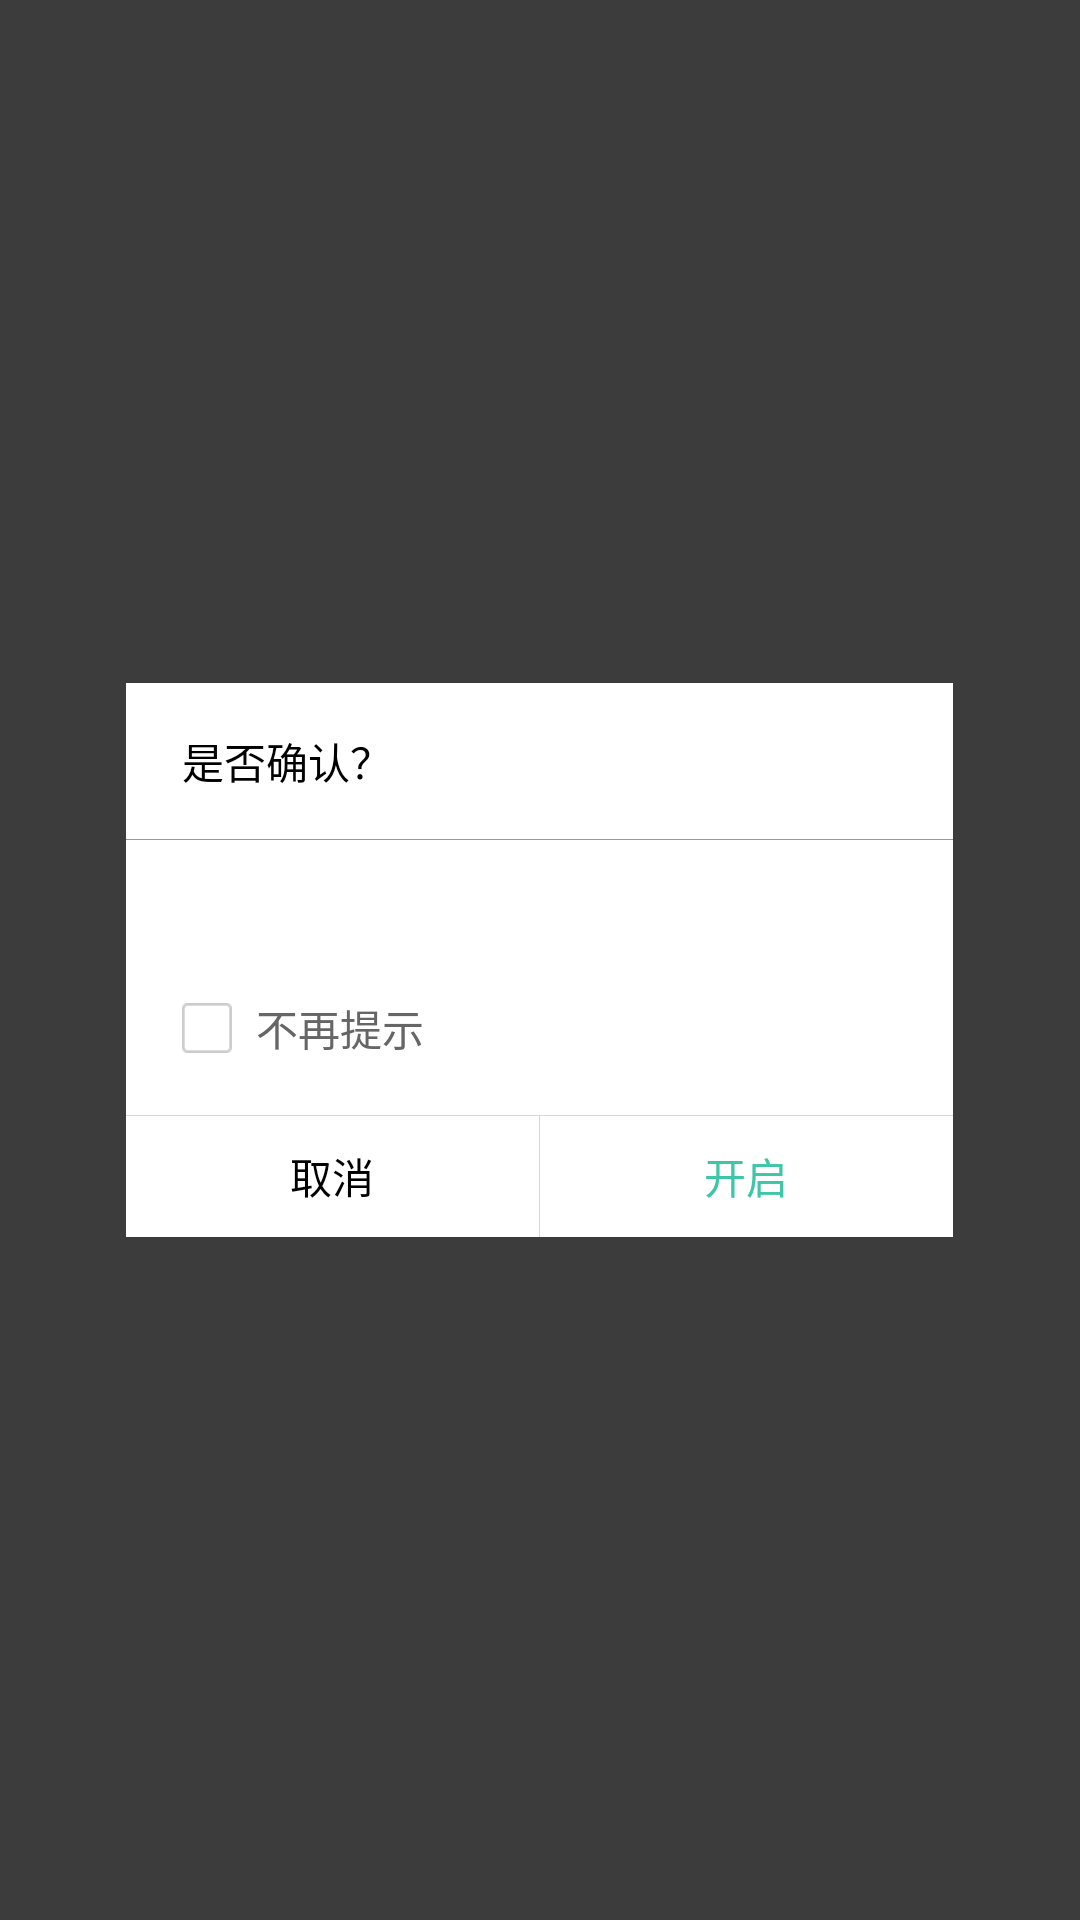

Icons on this 1080px x 1920px Android screen, each with the point to tap as (x,y):
checkbox: (207,1028)
